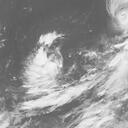cyclone: (22, 47, 77, 106)
